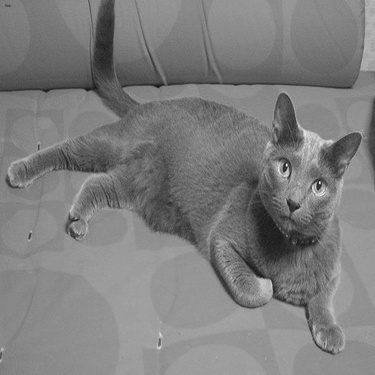cat: (8, 1, 362, 353)
